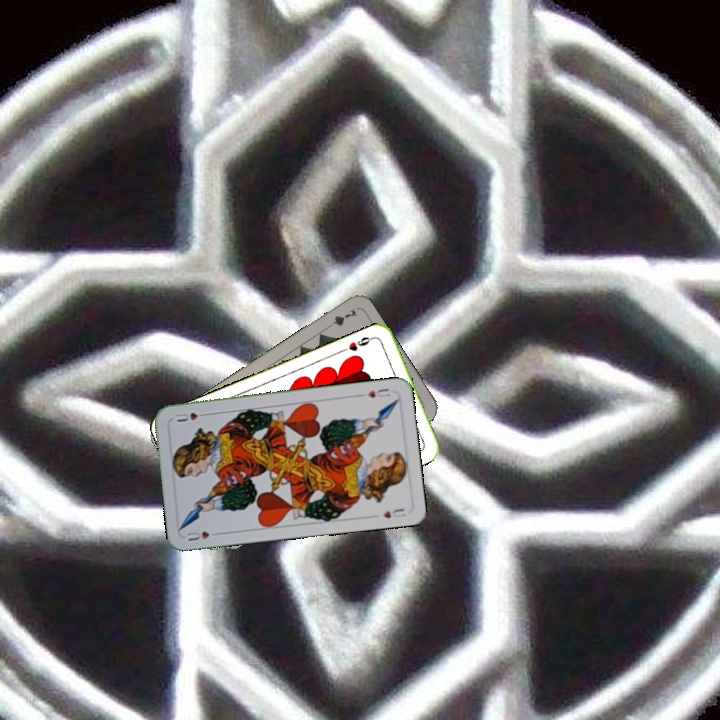G7: (321, 305, 359, 332)
H9: (338, 332, 377, 354)
HU: (183, 527, 223, 543), (356, 384, 393, 400)
